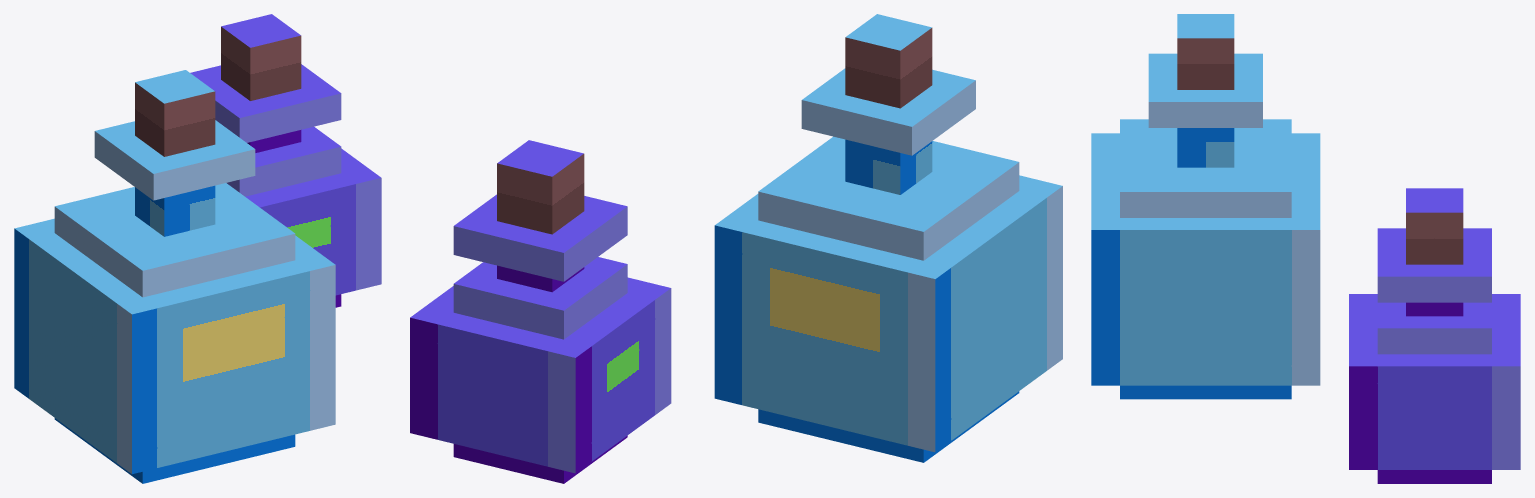
File: zu_bazaar_0ao.fezao.glb
3 renders of one model, left to right at view 1: azimuth 30°, elevation 25°; view 2: azimuth 150°, elevation 25°; view 3: azimuth 270°, elevation 25°, orthographic. The views are drawn at different scales.
Visible parts, largest first — view 1: ZU_BAZAAR_0AO; view 2: ZU_BAZAAR_0AO; view 3: ZU_BAZAAR_0AO.
Part boxes in pixels (x1,y1,x2,y2): ZU_BAZAAR_0AO: [14, 14, 381, 483]; ZU_BAZAAR_0AO: [410, 14, 1062, 483]; ZU_BAZAAR_0AO: [1091, 14, 1520, 483].
Size of the model in its own units: 0.9375 by 0.8125 by 0.9375.
1 material, 1 textured.
